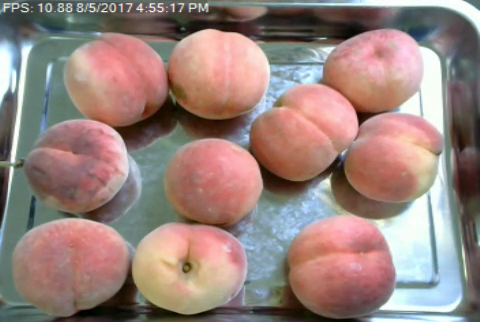Peach: (12, 216, 129, 316), (286, 215, 397, 319), (249, 83, 358, 181), (135, 222, 246, 316), (25, 118, 130, 214), (65, 32, 168, 127), (168, 25, 270, 120), (341, 112, 444, 203), (321, 25, 424, 114), (164, 138, 262, 224)
